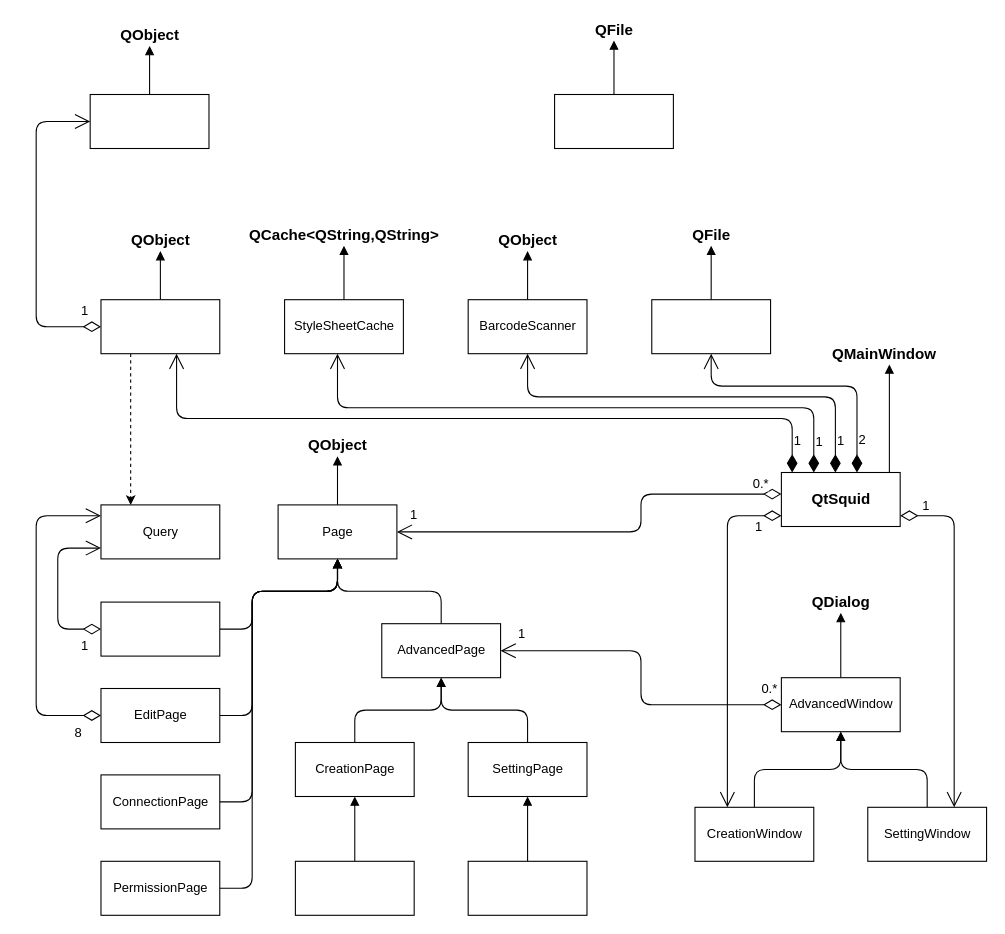
The diagram is 1005 pixels wide and 934 high, and some of its shapes have lost their labels. Here are the shapes that lost their labels. From the top down, the centre of each, then its label:
point (149, 120): MySQLTable
point (613, 120): FileLogger
point (160, 326): Database
point (711, 326): SettingFile
point (160, 628): SearchPage
point (354, 887): ItemCreationPage
point (527, 887): StylesheetSetting Page
